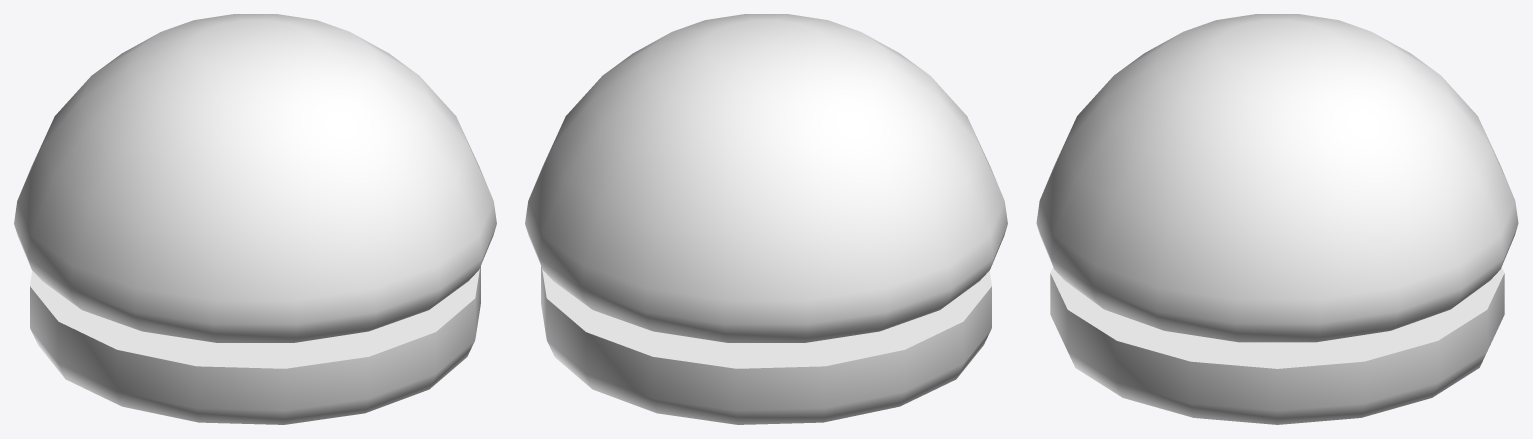
The model's file is Burger_bun_without_sesame_01.fbx.
3 renders of one model, left to right at view 1: azimuth 30°, elevation 25°; view 2: azimuth 150°, elevation 25°; view 3: azimuth 270°, elevation 25°, orthographic.
Visible parts, largest first — view 1: Burger_bun_without_sesame_01, Burger_bun_without_sesame_02; view 2: Burger_bun_without_sesame_01, Burger_bun_without_sesame_02; view 3: Burger_bun_without_sesame_01, Burger_bun_without_sesame_02.
Part boxes in pixels (<box>): Burger_bun_without_sesame_01: <box>14,14,496,342</box>; Burger_bun_without_sesame_02: <box>30,266,480,424</box>; Burger_bun_without_sesame_01: <box>525,14,1007,342</box>; Burger_bun_without_sesame_02: <box>541,266,991,424</box>; Burger_bun_without_sesame_01: <box>1036,14,1518,342</box>; Burger_bun_without_sesame_02: <box>1050,267,1504,424</box>.
Size of the model in its own units: 128 by 88.12 by 130.
